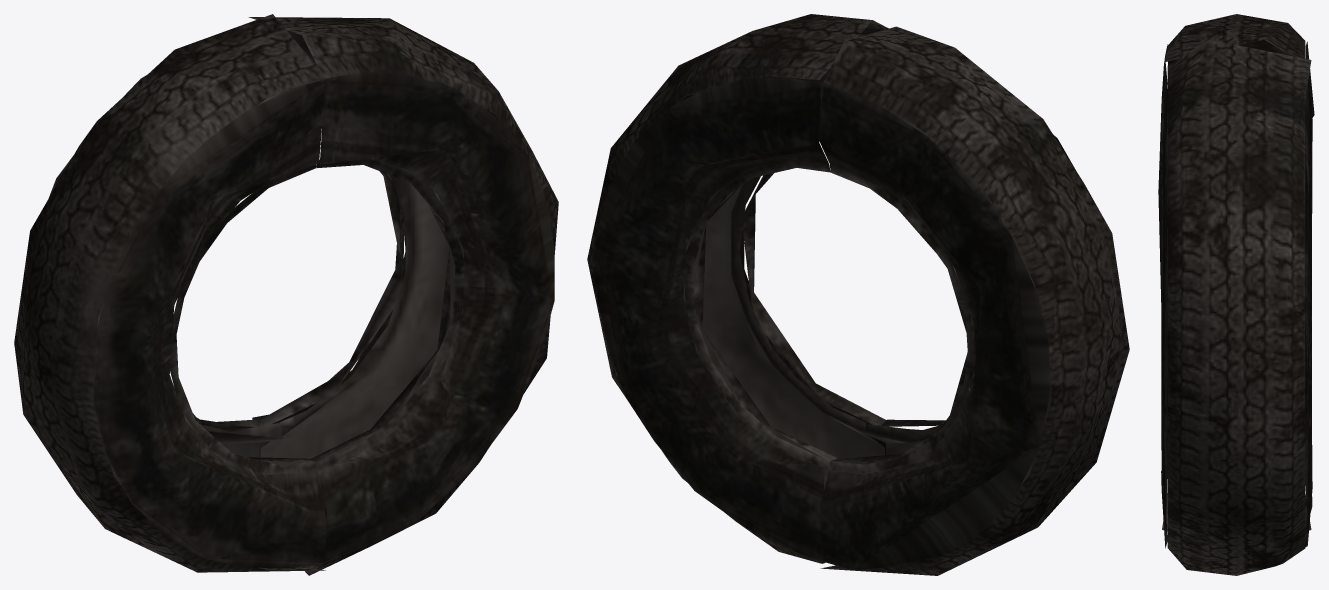
Rendered from quay-fender.glb.
The picture shows the model from 3 angles, left to right: view 1: azimuth 30°, elevation 25°; view 2: azimuth 150°, elevation 25°; view 3: azimuth 270°, elevation 25°; orthographic projection. The views are drawn at different scales.
Parts seen in each view (by area): view 1: old_tyre; view 2: old_tyre; view 3: old_tyre.
Boxes of the visible parts, left/top/right/bottom form: old_tyre: left=14, top=14, right=558, bottom=575; old_tyre: left=587, top=14, right=1129, bottom=575; old_tyre: left=1158, top=14, right=1314, bottom=575.
Size of the model in its own units: 0.6041 by 0.6092 by 0.1687.
1 material, 1 textured.
